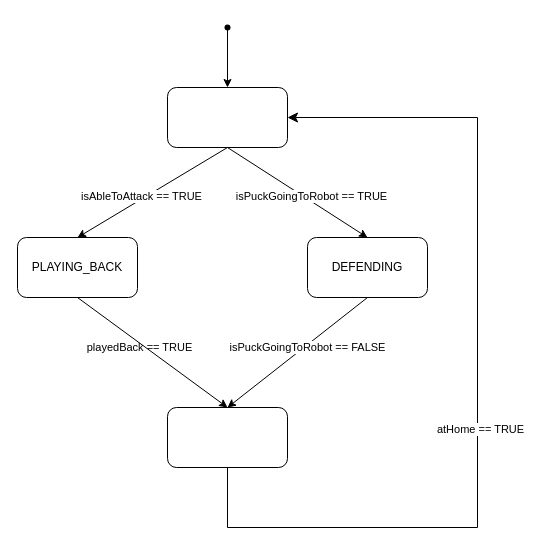
The diagram is 541 pixels wide and 555 high, and some of its shapes have lost their labels. Each missing label, with the box of its shape:
HOMING: (166, 406, 288, 468)
IDLE: (166, 86, 288, 148)
